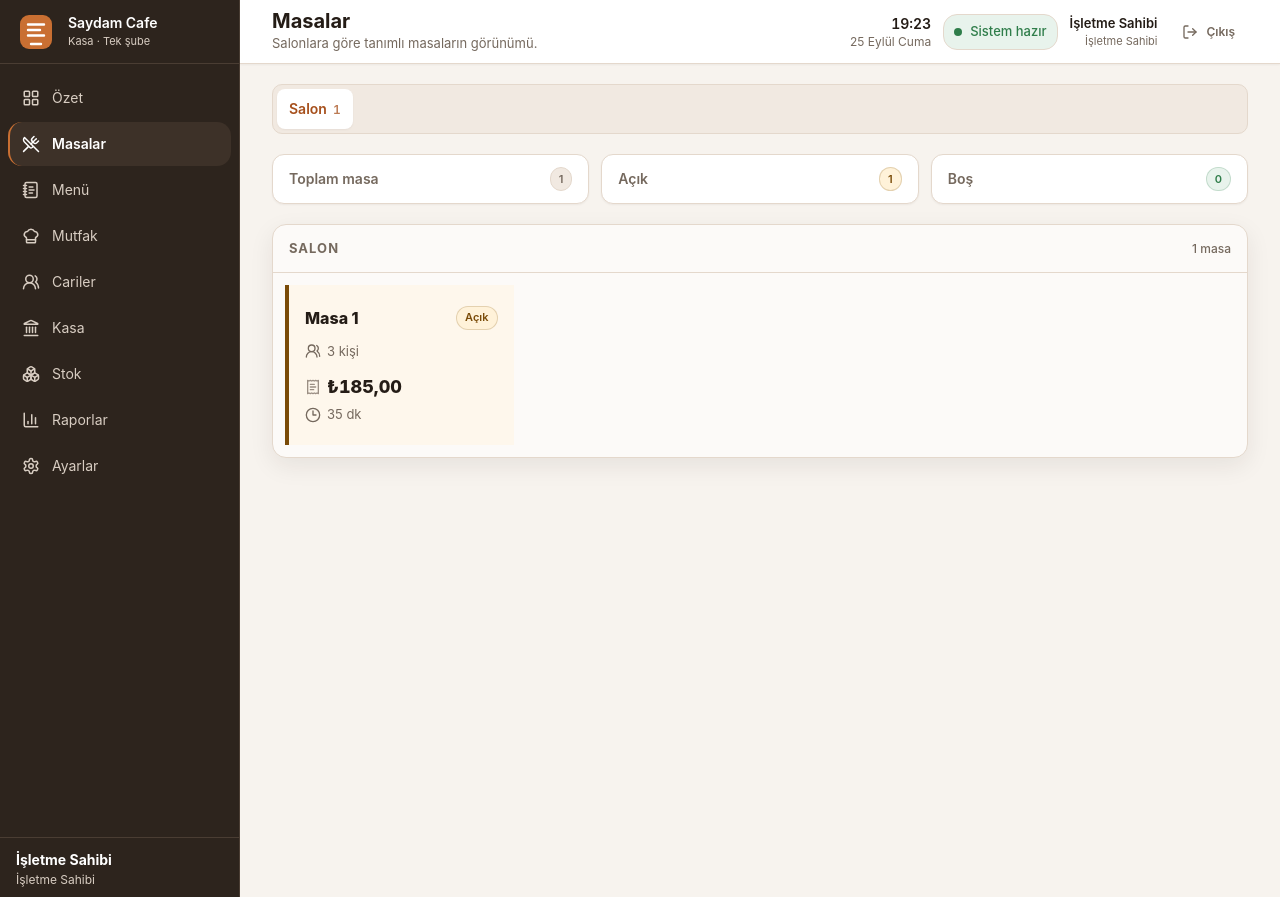
Test: Masa ve adisyon ekranı › ürün araması seçili kategoriyle sınırlı kalmaz, tüm menüde arar
Click the button "Masa 1 Açık 3 kişi ₺185,00 35 dk" at (399, 365), box [285, 285, 514, 445]
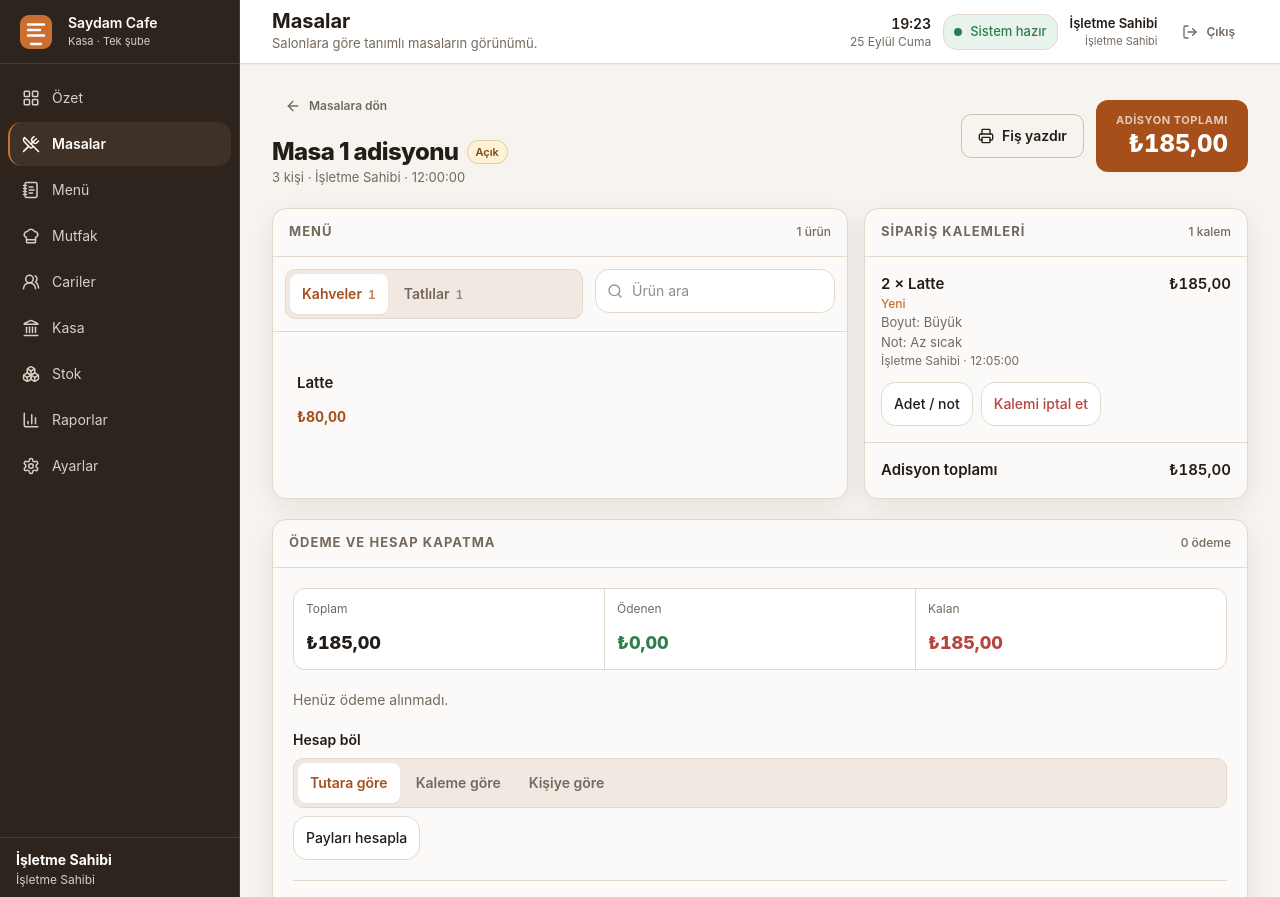
Expected: the button "San Sebastian" is not shown
Result: the heading "Masa 1 adisyonu" is shown at [272, 136, 458, 168]
Type "san" into the field labelled "Ürün ara" at (715, 290), box [595, 268, 835, 312]
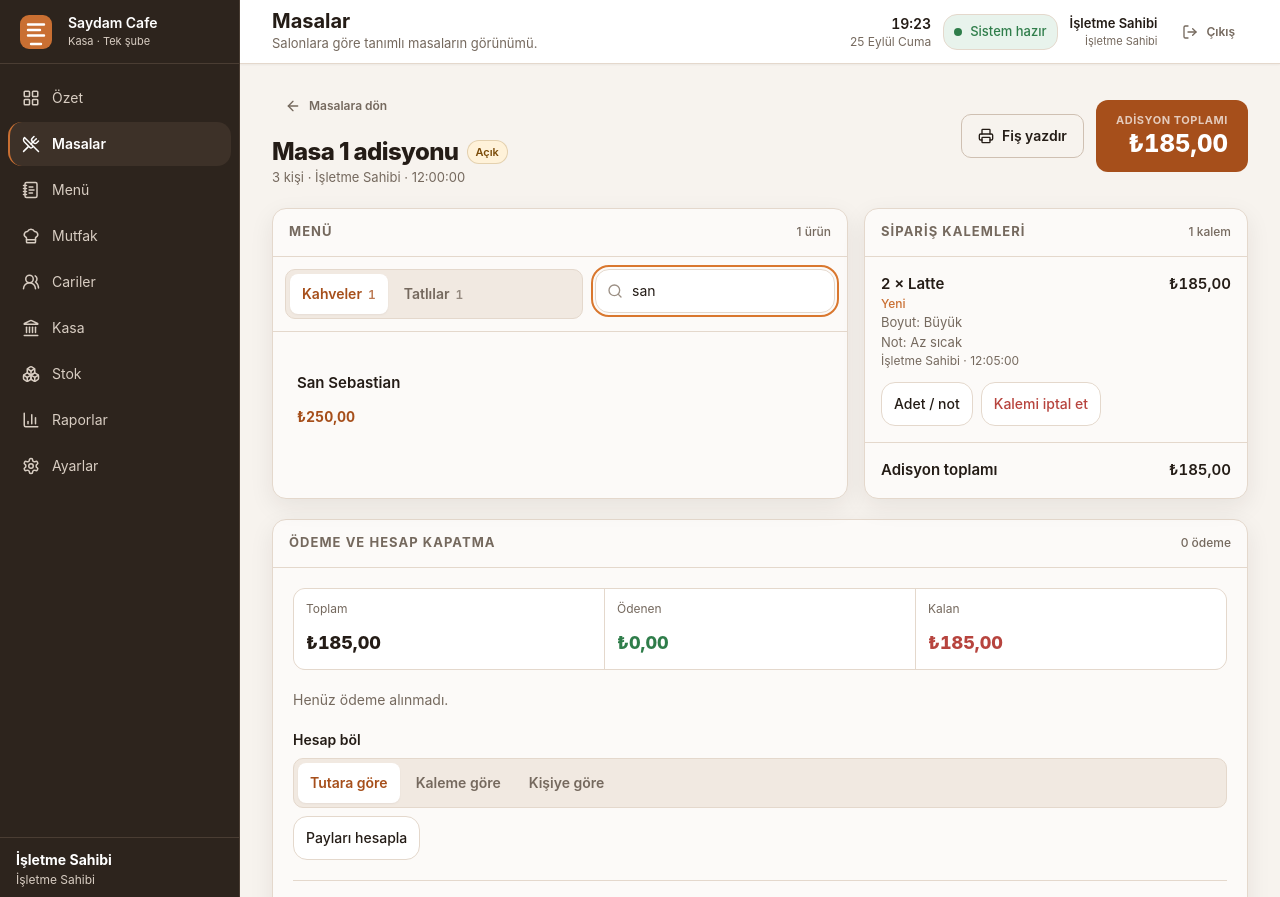
Result: the button "San Sebastian ₺250,00" is shown at [285, 344, 414, 456]
